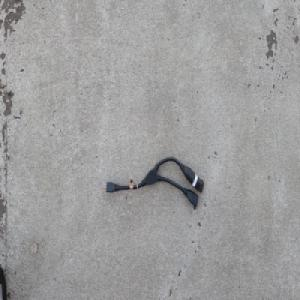Wire: (101, 155, 205, 210)
